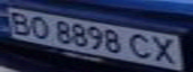8: (103, 27, 127, 55), (51, 18, 72, 45), (66, 21, 87, 48)
9: (84, 24, 106, 52)
B: (3, 9, 33, 36)
C: (127, 30, 157, 61)
O: (24, 14, 54, 40)
X: (148, 34, 184, 66)
